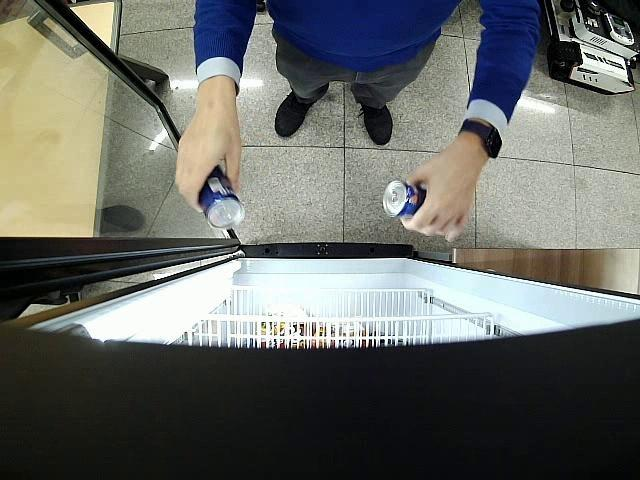16_hot6: (200, 166, 245, 229), (383, 180, 426, 216)
